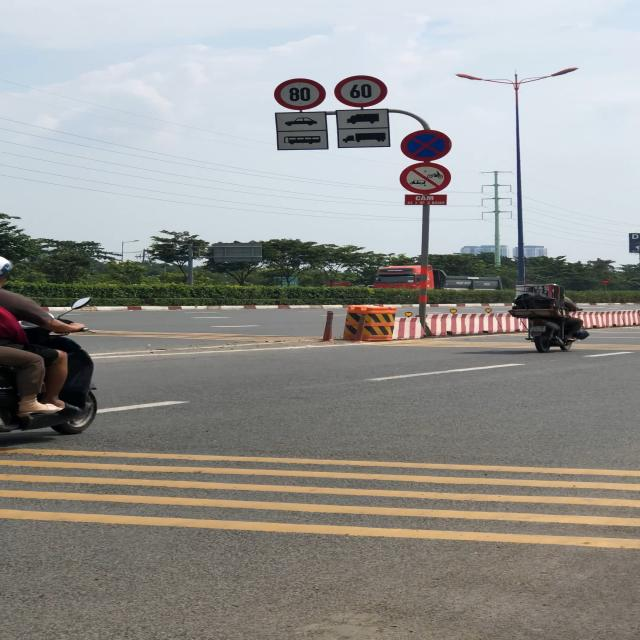Bien bao cam dung xe va do xe: (399, 128, 454, 162)
Bien bao toc do toi da cho phep: (333, 73, 391, 108), (272, 78, 330, 112)
